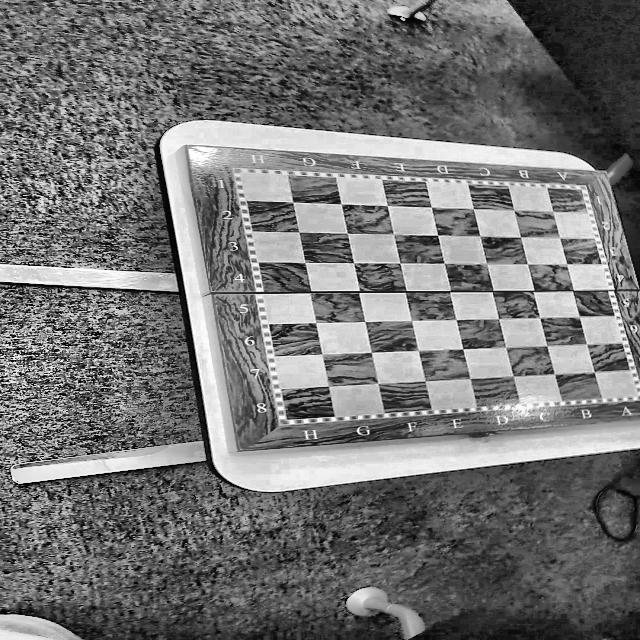chessboard: (241, 173, 639, 419)
